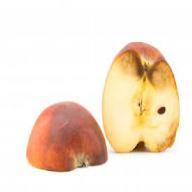apple: (103, 46, 180, 151), (26, 100, 108, 172)
